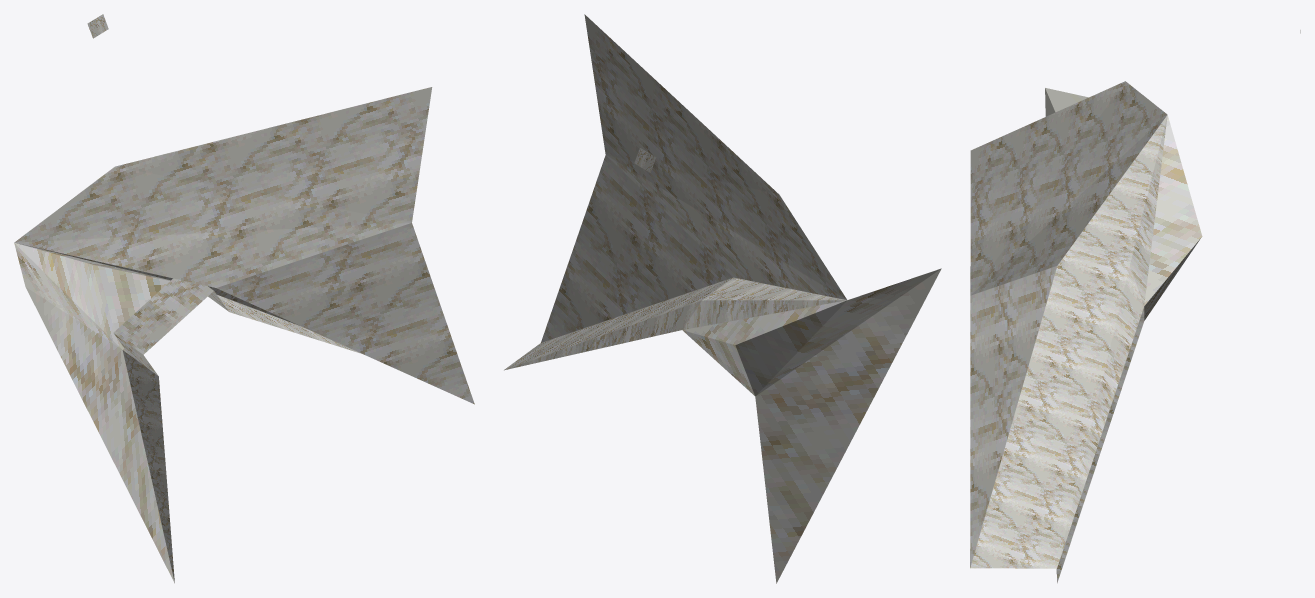
Rendered from Shape_IndexedFaceSet.016.obj.
3 views of the same model, side by side, from view 1: azimuth 30°, elevation 25°; view 2: azimuth 150°, elevation 25°; view 3: azimuth 270°, elevation 25° (orthographic). The views are drawn at different scales.
Parts seen in each view (by area): view 1: Shape_IndexedFaceSet.016; view 2: Shape_IndexedFaceSet.016; view 3: Shape_IndexedFaceSet.016.
Boxes of the visible parts, x1,y1,x2,y2 form: Shape_IndexedFaceSet.016: [14, 14, 474, 583]; Shape_IndexedFaceSet.016: [504, 14, 941, 583]; Shape_IndexedFaceSet.016: [970, 30, 1300, 583].
Size of the model in its own units: 5.12 by 5.71 by 2.92.
1 material, 1 textured.
